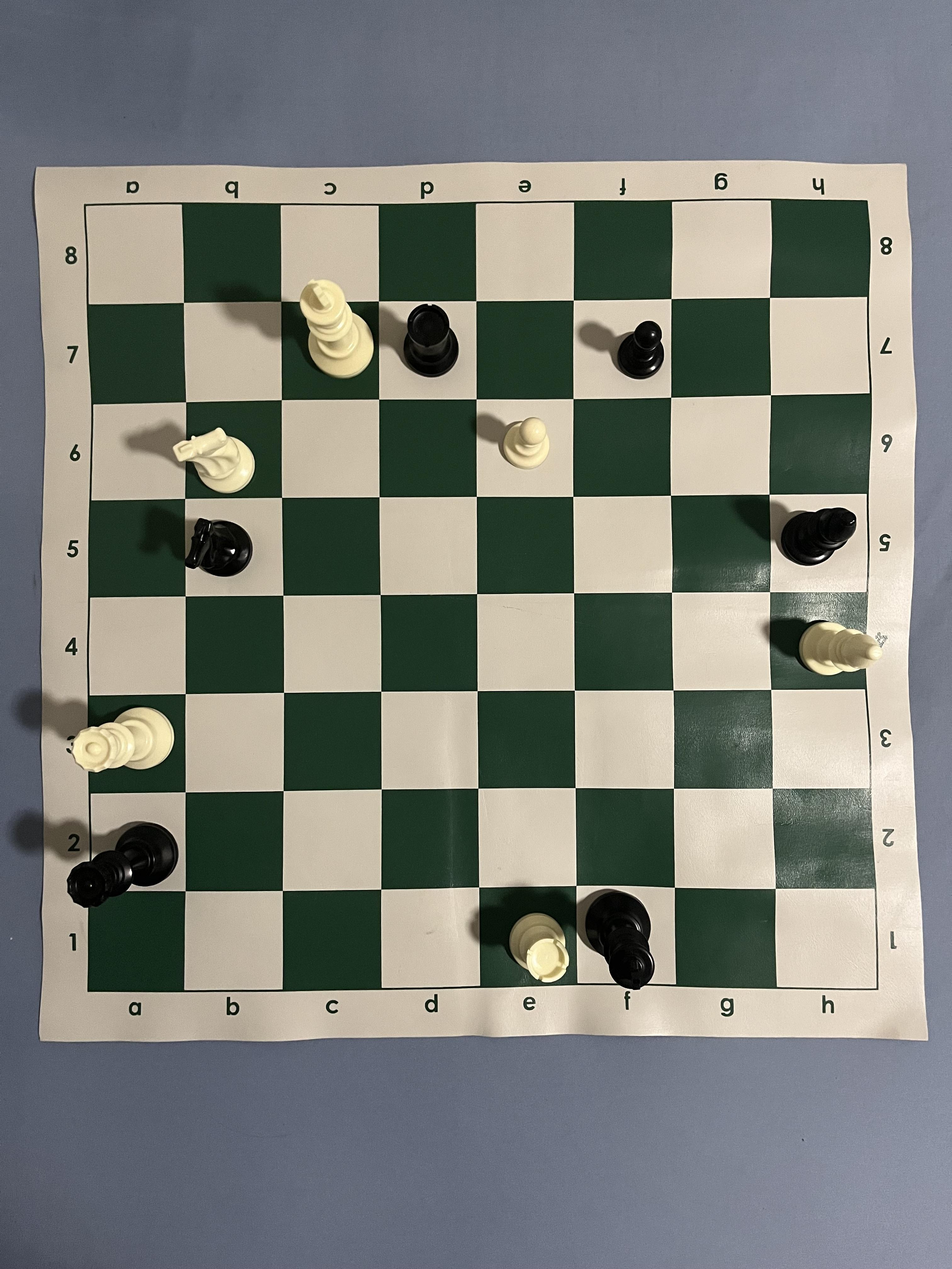black_bishop: (780, 507, 857, 566)
black_king: (583, 888, 656, 990)
black_knight: (185, 517, 253, 578)
black_pawn: (615, 321, 664, 380)
black_queen: (67, 821, 180, 910)
black_rook: (402, 303, 460, 378)
white_bishop: (797, 620, 883, 677)
white_king: (299, 278, 374, 379)
white_knight: (172, 427, 255, 494)
white_pawn: (501, 417, 550, 470)
white_queen: (68, 705, 175, 773)
white_rook: (508, 911, 571, 984)
